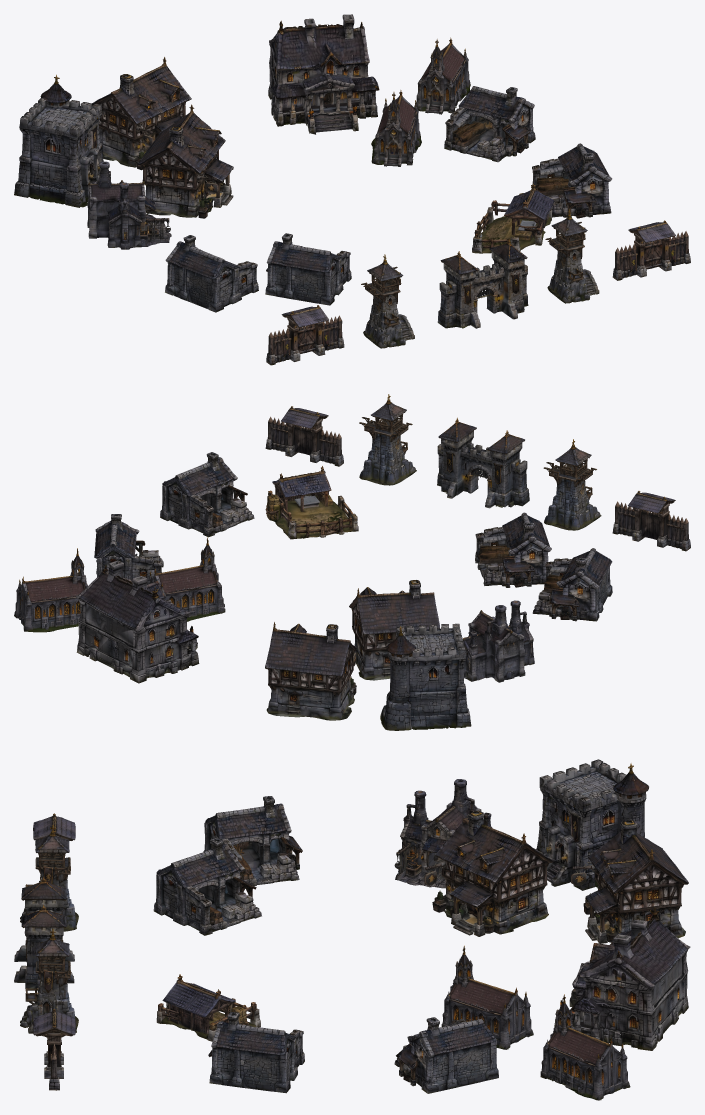
The model's file is city.glb.
The picture shows the model from 3 angles, top to bottom: view 1: azimuth 30°, elevation 25°; view 2: azimuth 150°, elevation 25°; view 3: azimuth 270°, elevation 25°; orthographic projection. The views are drawn at different scales.
Visible parts, largest first — view 1: tripo_node_097b1c53-89a4-441d-952b-96901d706ddc, tripo_node_c734f18e-27a4-4c9c-8fac-990196a8f00d, tripo_node_bd136ecc-58fa-4761-b921-9373271b4fde, tripo_node_bd136ecc-58fa-4761-b921-9373271b4fde2, tripo_node_1c7ce7c6-b926-44ef-9e56-ba65f862415d, tripo_node_d6a47007-00e0-468a-8086-0317b500f43a4, tripo_node_981a6e52-eed9-44ad-85c6-01b76abba094, tripo_node_d6a47007-00e0-468a-8086-0317b500f43a3, tripo_node_d6a47007-00e0-468a-8086-0317b500f43a, tripo_node_d6a47007-00e0-468a-8086-0317b500f43a2, tripo_node_a6e2cb6d-843f-4073-af24-3c14b2e3cc81, tripo_node_be21c903-b118-44bc-8d69-18b5f38aa4f8 (+5 smaller); view 2: tripo_node_097b1c53-89a4-441d-952b-96901d706ddc, tripo_node_c734f18e-27a4-4c9c-8fac-990196a8f00d, tripo_node_bd136ecc-58fa-4761-b921-9373271b4fde2, tripo_node_1c7ce7c6-b926-44ef-9e56-ba65f862415d, tripo_node_bd136ecc-58fa-4761-b921-9373271b4fde, tripo_node_d6a47007-00e0-468a-8086-0317b500f43a2, tripo_node_a6e2cb6d-843f-4073-af24-3c14b2e3cc81, tripo_node_d6a47007-00e0-468a-8086-0317b500f43a, tripo_node_981a6e52-eed9-44ad-85c6-01b76abba094, tripo_node_d6a47007-00e0-468a-8086-0317b500f43a3, tripo_node_f1f5ecea-4eac-487a-99b3-0cc9a83e139a2, tripo_node_453efe89-3591-4c3b-b2e4-5956c35540812 (+5 smaller); view 3: tripo_node_097b1c53-89a4-441d-952b-96901d706ddc, tripo_node_bd136ecc-58fa-4761-b921-9373271b4fde, tripo_node_c734f18e-27a4-4c9c-8fac-990196a8f00d, tripo_node_bd136ecc-58fa-4761-b921-9373271b4fde2, tripo_node_d6a47007-00e0-468a-8086-0317b500f43a, tripo_node_d6a47007-00e0-468a-8086-0317b500f43a4, tripo_node_d6a47007-00e0-468a-8086-0317b500f43a2, tripo_node_d6a47007-00e0-468a-8086-0317b500f43a3, tripo_node_f1f5ecea-4eac-487a-99b3-0cc9a83e139a2, tripo_node_981a6e52-eed9-44ad-85c6-01b76abba094, tripo_node_f1f5ecea-4eac-487a-99b3-0cc9a83e139a, tripo_node_a6e2cb6d-843f-4073-af24-3c14b2e3cc81 (+5 smaller).
Boxes of the visible parts, box(x1,y1,x2,y2) form: tripo_node_097b1c53-89a4-441d-952b-96901d706ddc: box(268, 14, 379, 134); tripo_node_c734f18e-27a4-4c9c-8fac-990196a8f00d: box(14, 74, 103, 207); tripo_node_bd136ecc-58fa-4761-b921-9373271b4fde: box(137, 104, 233, 218); tripo_node_bd136ecc-58fa-4761-b921-9373271b4fde2: box(92, 57, 191, 170); tripo_node_1c7ce7c6-b926-44ef-9e56-ba65f862415d: box(437, 239, 528, 328); tripo_node_d6a47007-00e0-468a-8086-0317b500f43a4: box(444, 86, 535, 162); tripo_node_981a6e52-eed9-44ad-85c6-01b76abba094: box(87, 161, 171, 249); tripo_node_d6a47007-00e0-468a-8086-0317b500f43a3: box(165, 235, 258, 312); tripo_node_d6a47007-00e0-468a-8086-0317b500f43a: box(265, 233, 351, 305); tripo_node_d6a47007-00e0-468a-8086-0317b500f43a2: box(532, 143, 612, 218); tripo_node_a6e2cb6d-843f-4073-af24-3c14b2e3cc81: box(472, 183, 554, 253); tripo_node_be21c903-b118-44bc-8d69-18b5f38aa4f8: box(266, 305, 344, 365); tripo_node_097b1c53-89a4-441d-952b-96901d706ddc: box(76, 560, 199, 683); tripo_node_c734f18e-27a4-4c9c-8fac-990196a8f00d: box(380, 623, 471, 730); tripo_node_bd136ecc-58fa-4761-b921-9373271b4fde2: box(265, 622, 356, 720); tripo_node_1c7ce7c6-b926-44ef-9e56-ba65f862415d: box(437, 417, 529, 508); tripo_node_bd136ecc-58fa-4761-b921-9373271b4fde: box(349, 580, 439, 680); tripo_node_d6a47007-00e0-468a-8086-0317b500f43a2: box(160, 452, 254, 537); tripo_node_a6e2cb6d-843f-4073-af24-3c14b2e3cc81: box(265, 466, 358, 539); tripo_node_d6a47007-00e0-468a-8086-0317b500f43a: box(475, 512, 551, 587); tripo_node_981a6e52-eed9-44ad-85c6-01b76abba094: box(462, 600, 534, 682); tripo_node_d6a47007-00e0-468a-8086-0317b500f43a3: box(532, 548, 612, 621); tripo_node_f1f5ecea-4eac-487a-99b3-0cc9a83e139a2: box(14, 548, 87, 632); tripo_node_453efe89-3591-4c3b-b2e4-5956c35540812: box(359, 394, 416, 485); tripo_node_097b1c53-89a4-441d-952b-96901d706ddc: box(554, 907, 690, 1050); tripo_node_bd136ecc-58fa-4761-b921-9373271b4fde: box(424, 810, 553, 936); tripo_node_c734f18e-27a4-4c9c-8fac-990196a8f00d: box(536, 759, 648, 890); tripo_node_bd136ecc-58fa-4761-b921-9373271b4fde2: box(571, 820, 688, 943); tripo_node_d6a47007-00e0-468a-8086-0317b500f43a: box(153, 838, 261, 935); tripo_node_d6a47007-00e0-468a-8086-0317b500f43a4: box(394, 1017, 498, 1093); tripo_node_d6a47007-00e0-468a-8086-0317b500f43a2: box(208, 1012, 304, 1093); tripo_node_d6a47007-00e0-468a-8086-0317b500f43a3: box(203, 796, 302, 885); tripo_node_f1f5ecea-4eac-487a-99b3-0cc9a83e139a2: box(540, 994, 630, 1100); tripo_node_981a6e52-eed9-44ad-85c6-01b76abba094: box(394, 779, 492, 888); tripo_node_f1f5ecea-4eac-487a-99b3-0cc9a83e139a: box(441, 945, 533, 1049); tripo_node_a6e2cb6d-843f-4073-af24-3c14b2e3cc81: box(156, 974, 260, 1041).
Bounding box in the file's own units: 24.78 × 5.07 × 27.55.
10 materials, 10 textured.
